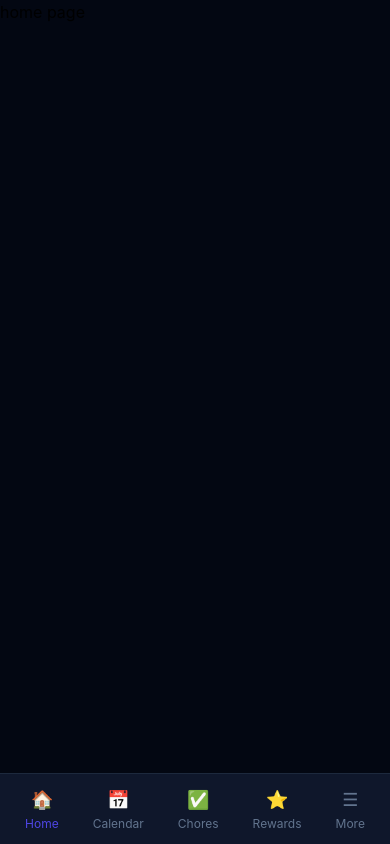
it: NavShell › keeps the sidebar by default, and the phone bar puts the rest under More
The image size is (390, 844).
Check: the number of links is 4, box [25,789,59,831]; [93,789,144,831]; [178,789,218,831]; [253,789,302,831]
Click the button "☰ More" at (350,809), box [324,782,377,836]
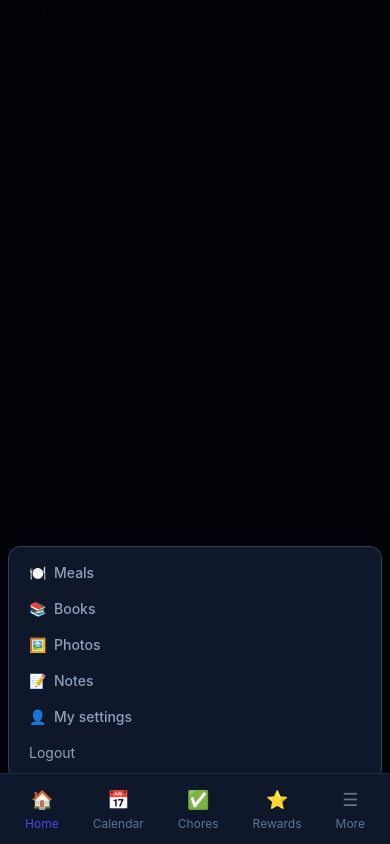
Check: the menu named "More" shows "Books", box [17,591,373,627]
Check: the menu named "More" shows "My settings", box [17,699,373,735]
Click the menu item "🍽️ Meals" at (62,572), box [29,564,94,581]
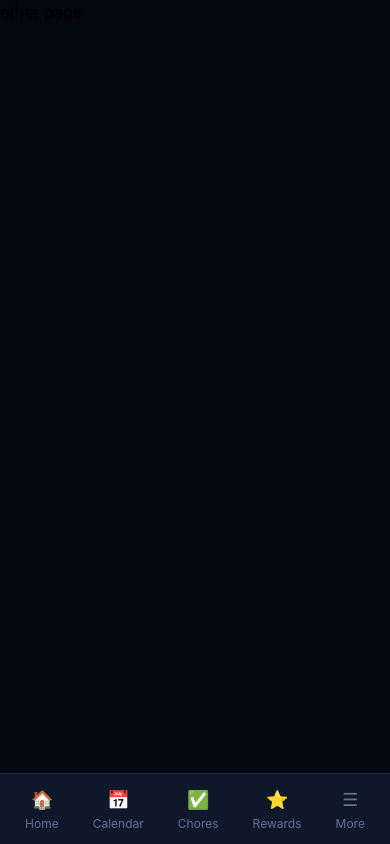
Check: the menu is gone
